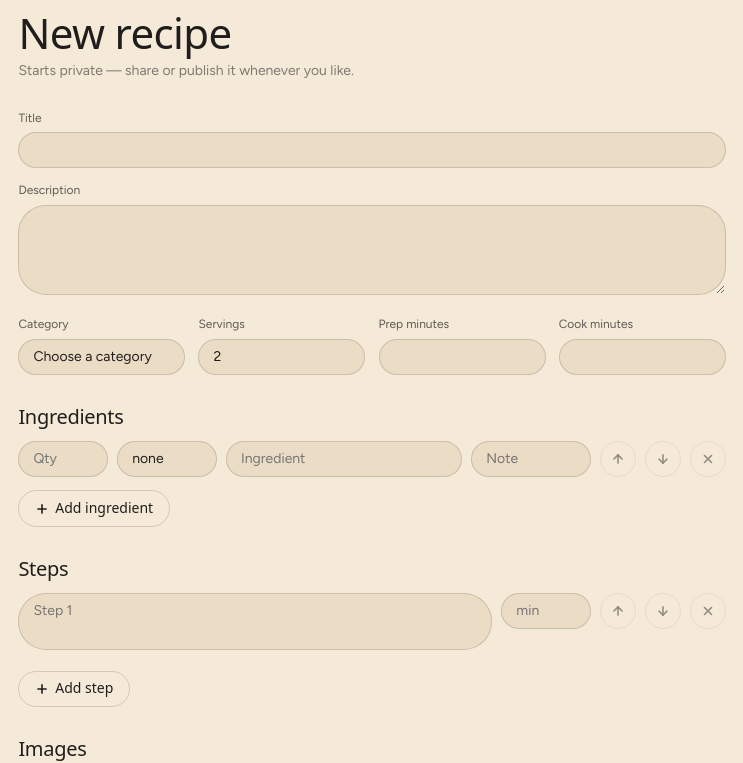
Test case: RecipeEditorScreen › UI-31 focuses the first invalid field in screen order
The image size is (743, 763).
In the field labelled "Title": {"x": 372, "y": 150} [18,132,726,168], type "Shakshuka"
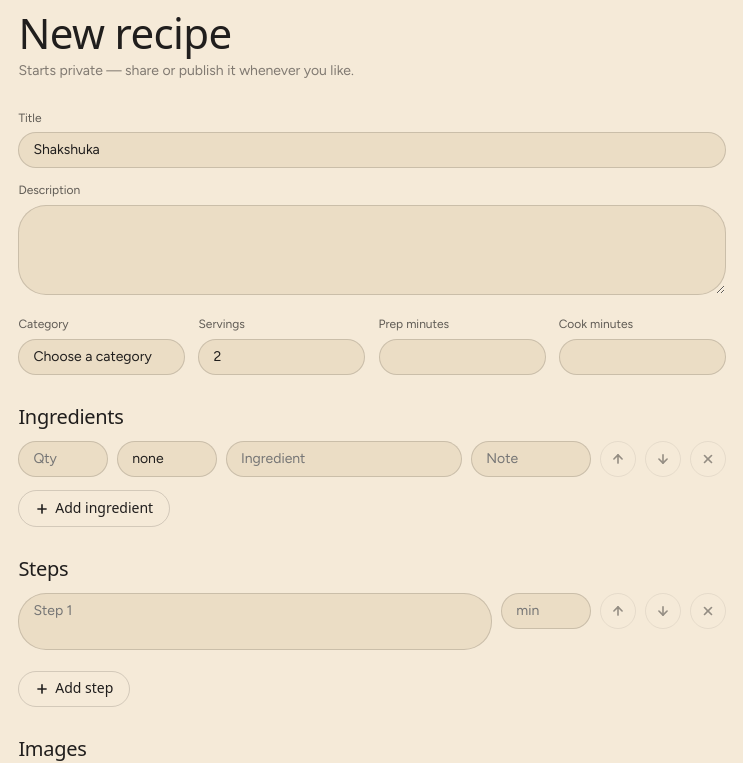
In the field named "Ingredient 1": {"x": 344, "y": 459} [226,441,462,477], type "eggs"
(page scrolled)
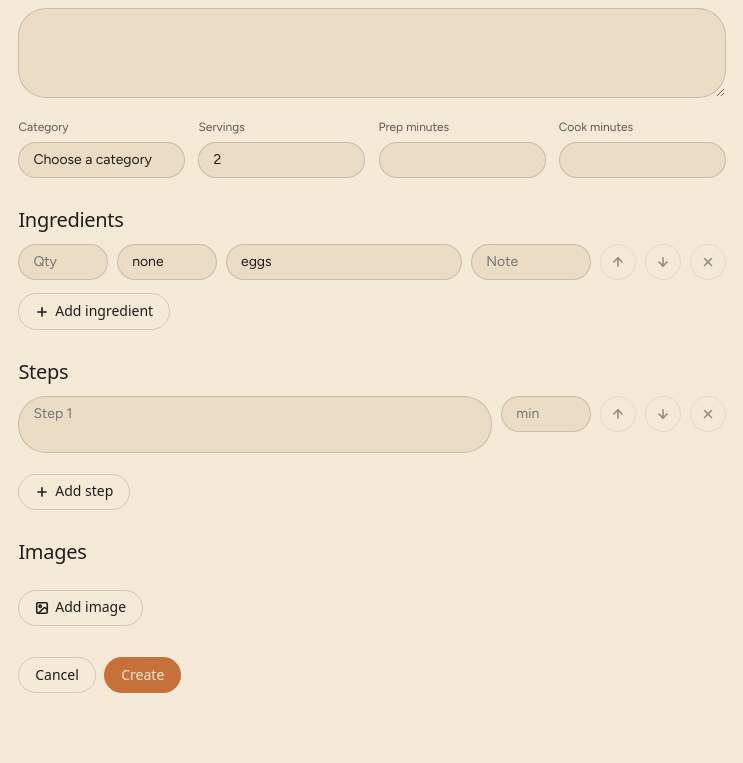
Click the button "Create": {"x": 143, "y": 675} [104,657,181,693]
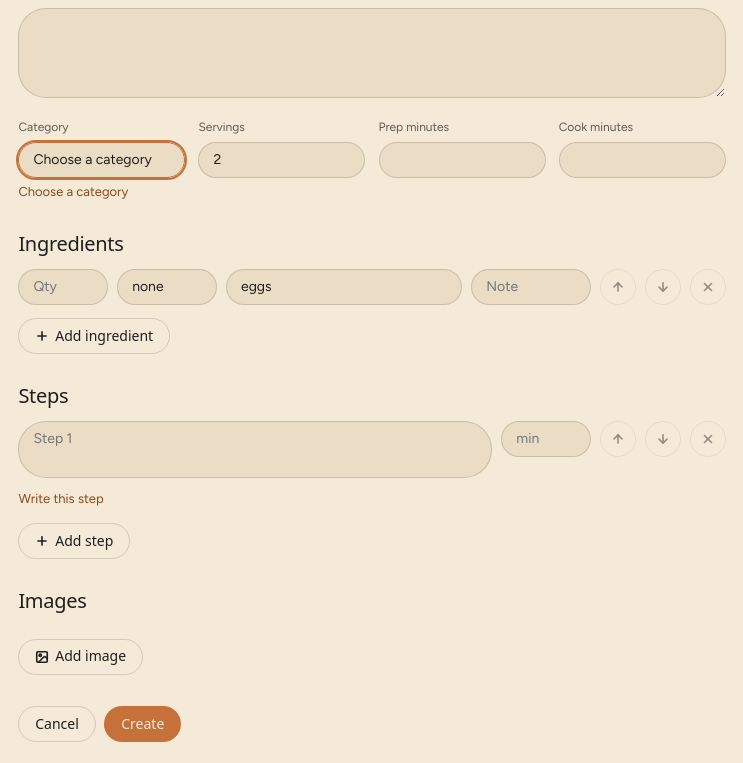
Result: the text "Write this step" is shown at [18,491,104,506]
